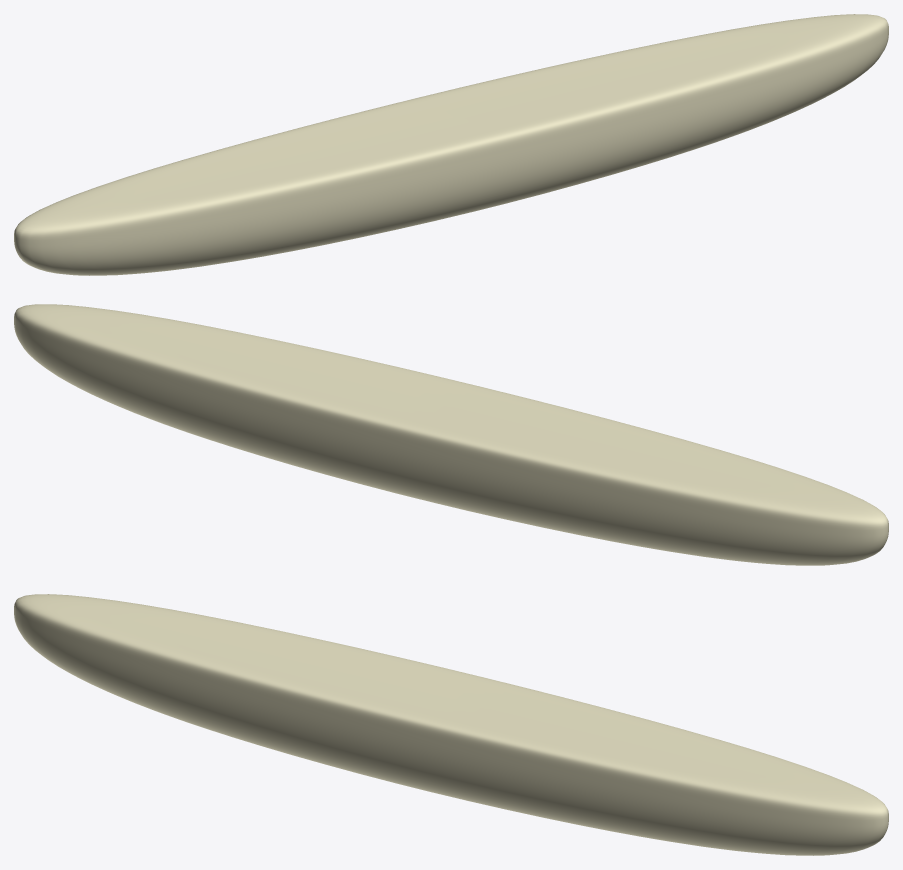
Rendered from yut.glb.
3 views of the same model, one above another, from view 1: azimuth 30°, elevation 25°; view 2: azimuth 150°, elevation 25°; view 3: azimuth 330°, elevation 25° (orthographic).
Parts seen in each view (by area): view 1: Cube.004; view 2: Cube.004; view 3: Cube.004.
Boxes of the visible parts, left/top/right/bottom form: Cube.004: left=14, top=14, right=888, bottom=275; Cube.004: left=14, top=304, right=888, bottom=565; Cube.004: left=14, top=594, right=888, bottom=855.
Bounding box in the file's own units: 7.75 × 0.7538 × 0.994.
